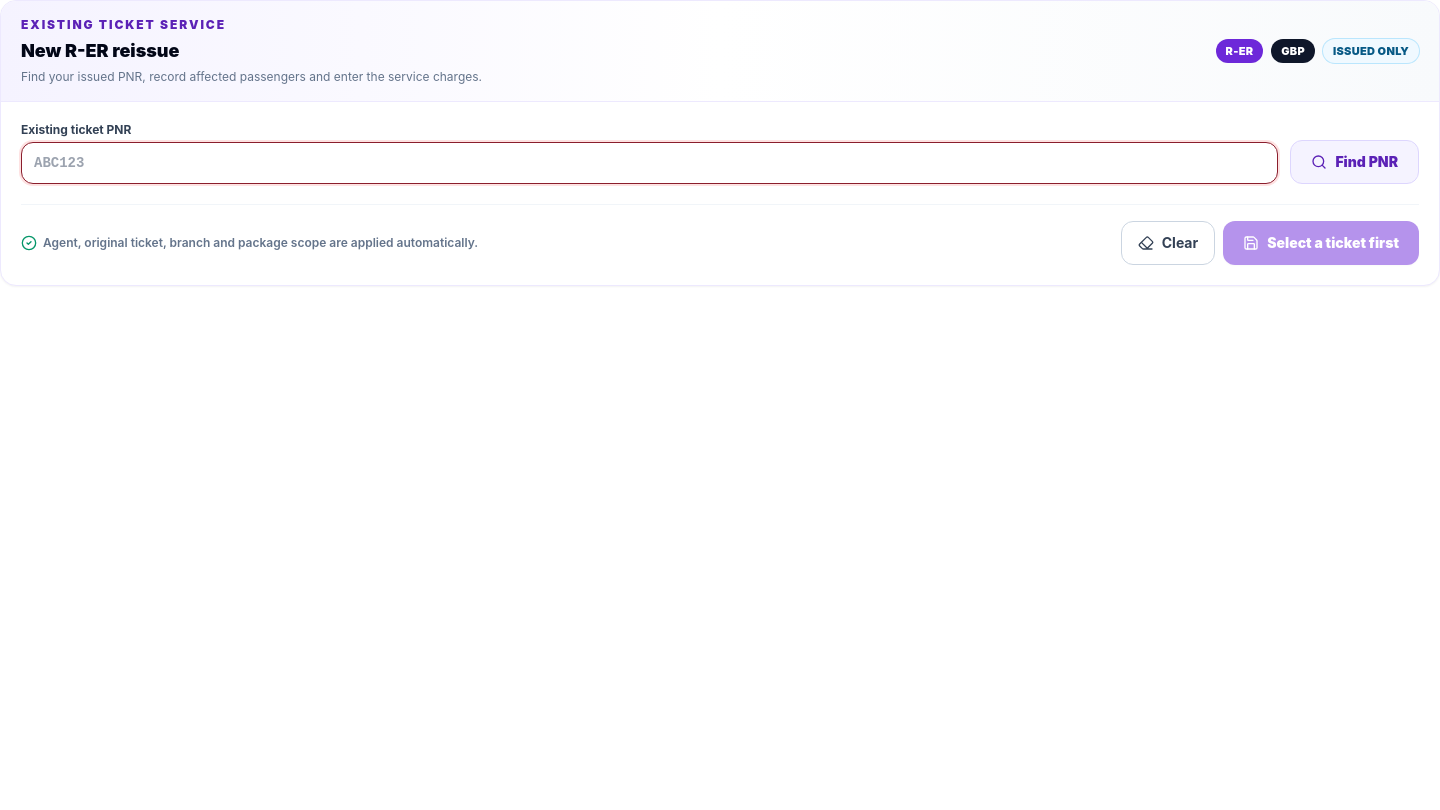
Test: TicketFollowOnEntryForm › requires an explicit choice when the same PNR has multiple own issued records
Type "ab c123" into the field labelled "Existing ticket PNR" at (650, 163), box [21,142,1278,184]
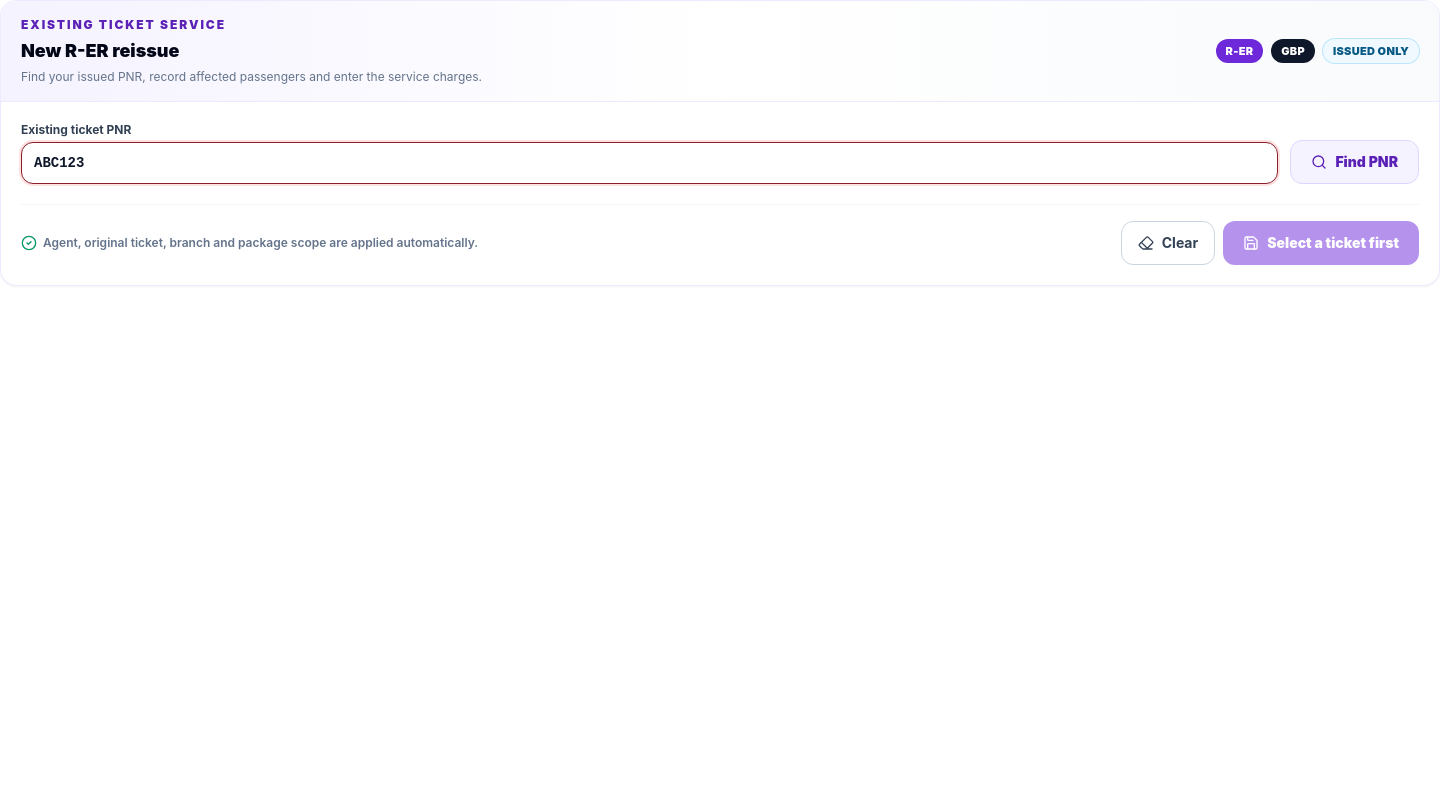
Click the button "Find PNR" at (1355, 162), box [1290,140,1419,184]
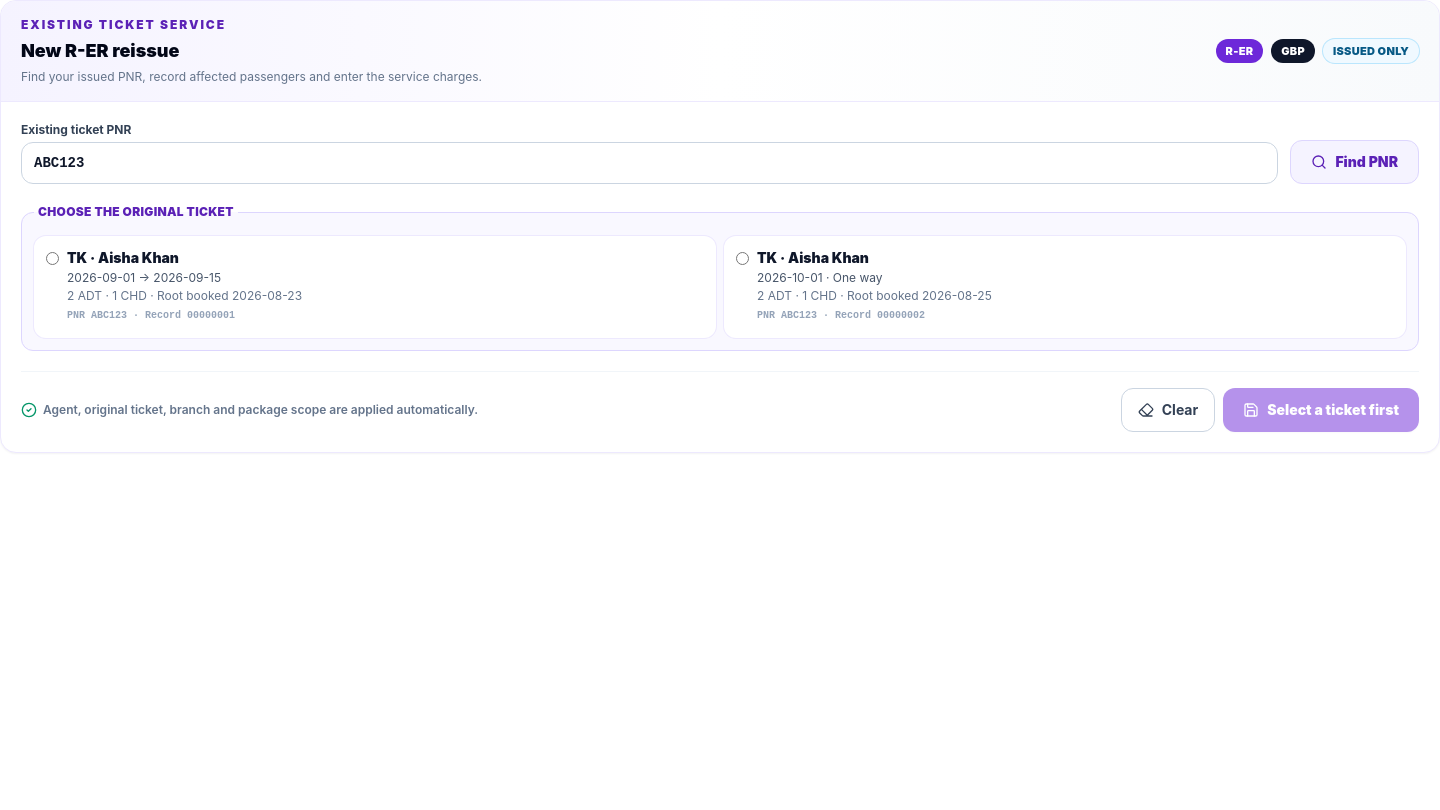
Result: the text "Choose the original ticket" is shown at [34,204,238,220]
Result: the text "2026-09-01 → 2026-09-15" is shown at [67,270,221,285]
Result: the text "2026-10-01 · One way" is shown at [757,270,883,285]
Click the 2nd radio button at (742, 258), box [736,252,749,265]
(page scrolled)
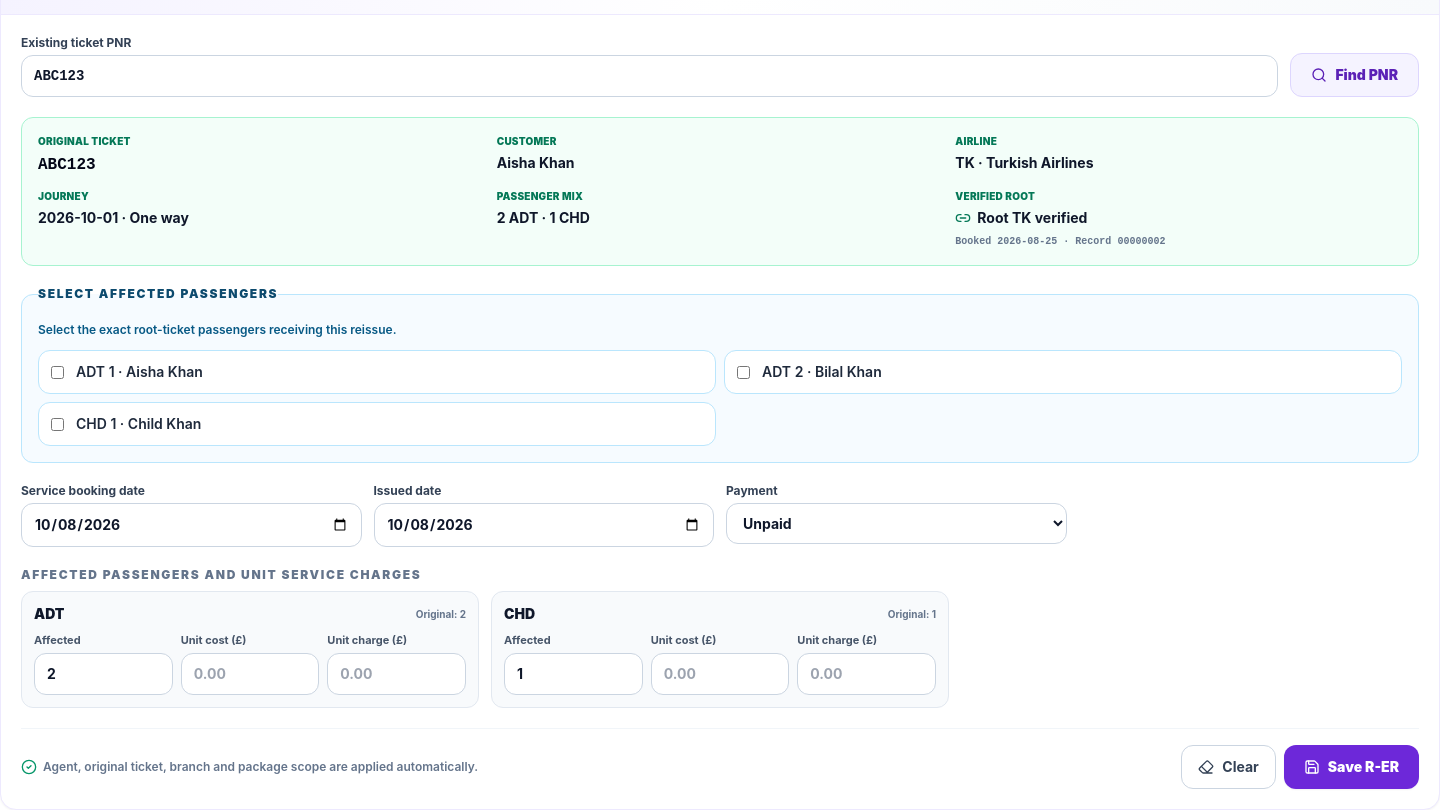
Result: the text "2026-10-01 · One way" is shown at [38,209,189,226]
Result: the text "Root TK verified" is shown at [955,208,1087,228]
Result: the text "Booked 2026-08-25 · Record 00000002" is shown at [955,236,1165,247]
